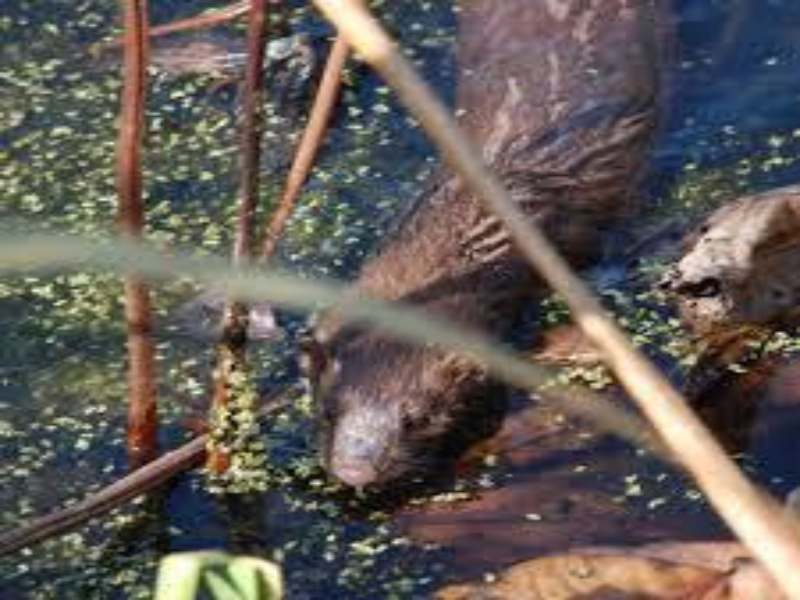minkish: (302, 3, 670, 500)
